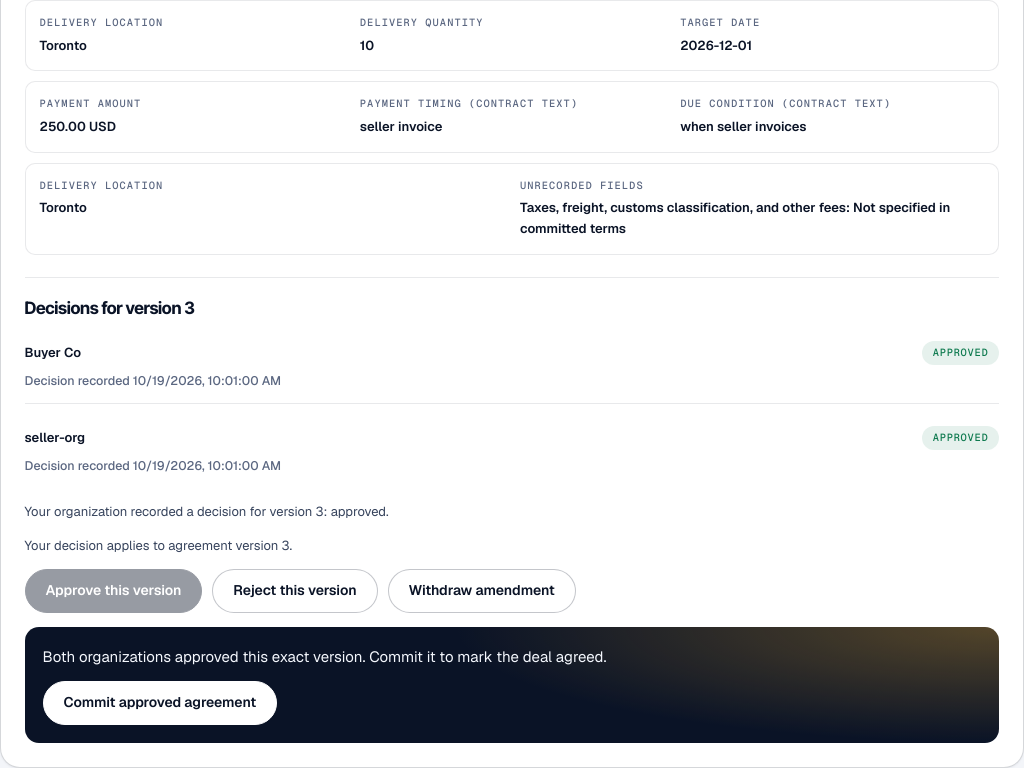
Scenario: AgreementReview › offers commit only after both parties approve the exact saved version
This screenshot has width=1024, height=768.
(page scrolled)
Step 1. Click the button "Commit approved agreement" → (160, 703), box [42,681,277,725]
(page scrolled)
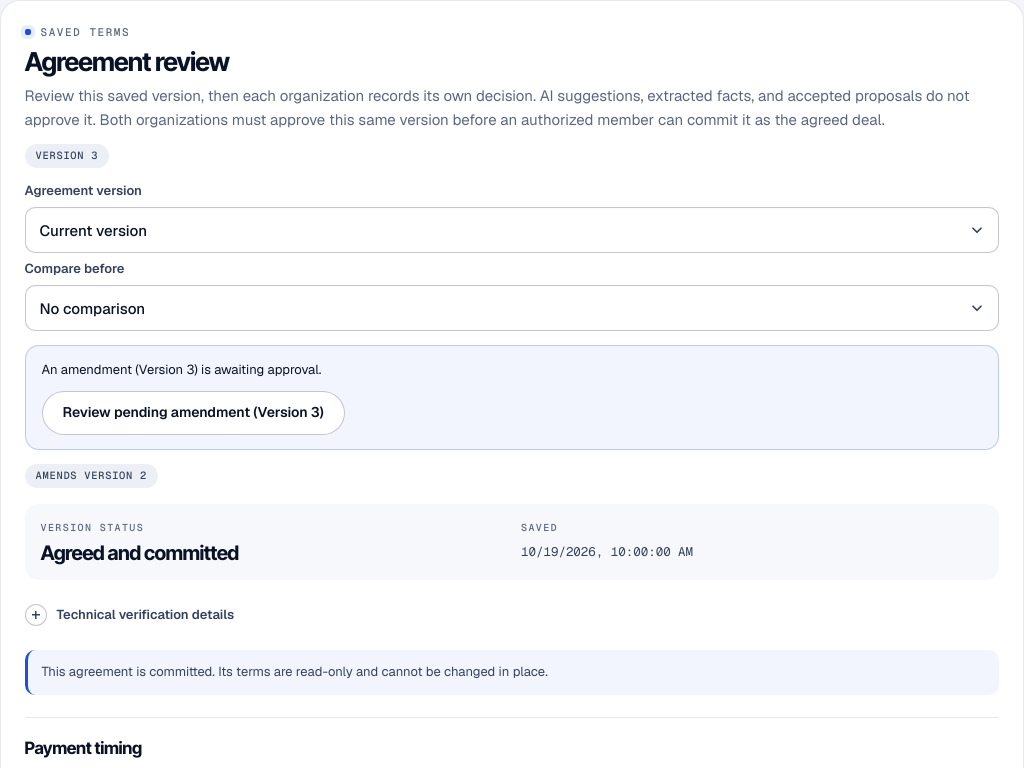
Check: the text "committed. Its terms are read-only" is shown, box [42,663,548,680]
